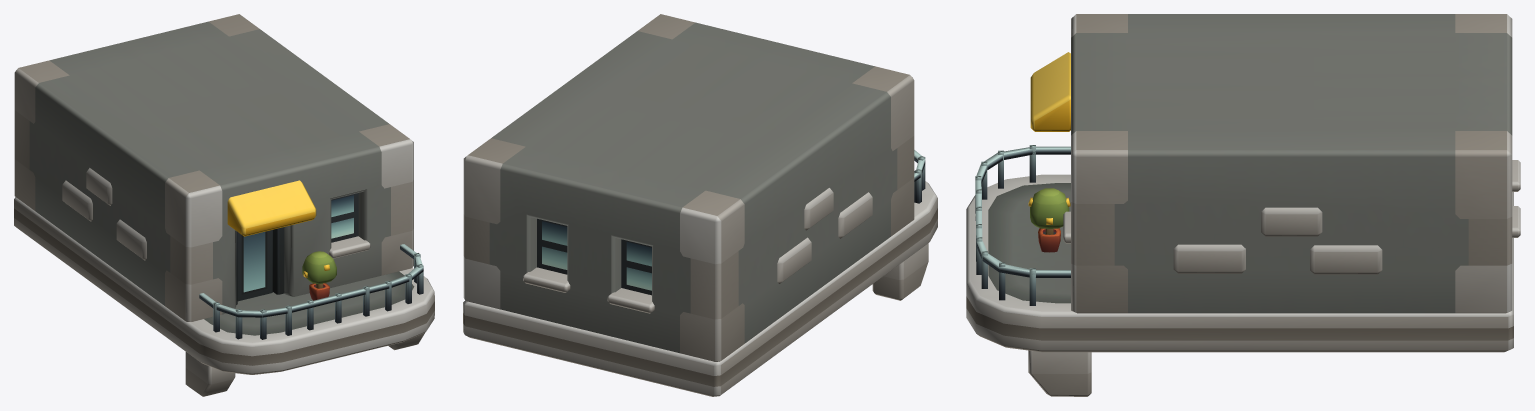
The model's file is appartment_type1_x3_balcony_grey.fbx.
3 views of the same model, side by side, from view 1: azimuth 30°, elevation 25°; view 2: azimuth 150°, elevation 25°; view 3: azimuth 270°, elevation 25° (orthographic). The views are drawn at different scales.
Parts seen in each view (by area): view 1: appartment_type1_x3_balcony_grey, door_appartment_type1_x3_balcony_grey; view 2: appartment_type1_x3_balcony_grey; view 3: appartment_type1_x3_balcony_grey.
Boxes of the visible parts, x1,y1,x2,y2 form: appartment_type1_x3_balcony_grey: (14,14,434,396); door_appartment_type1_x3_balcony_grey: (237,230,272,301); appartment_type1_x3_balcony_grey: (463,14,937,396); appartment_type1_x3_balcony_grey: (966,14,1520,396).
Size of the model in its own units: 628 by 505 by 1017.
